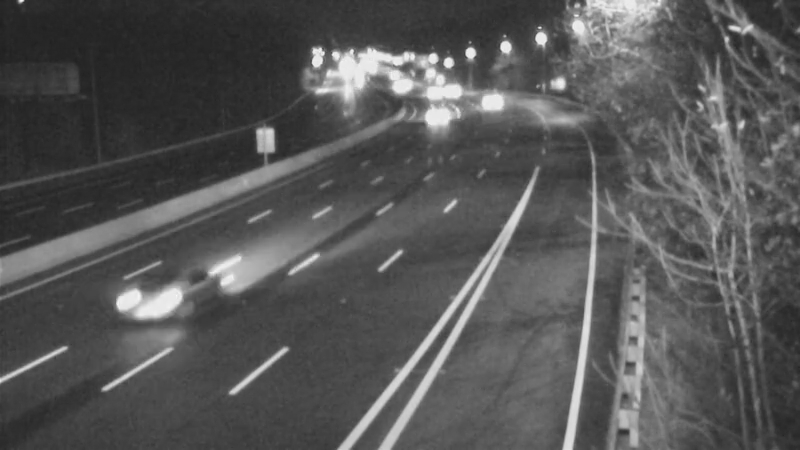vehicle: (94, 250, 204, 360), (404, 69, 454, 119), (426, 64, 476, 114), (464, 78, 514, 128), (408, 89, 458, 139)
